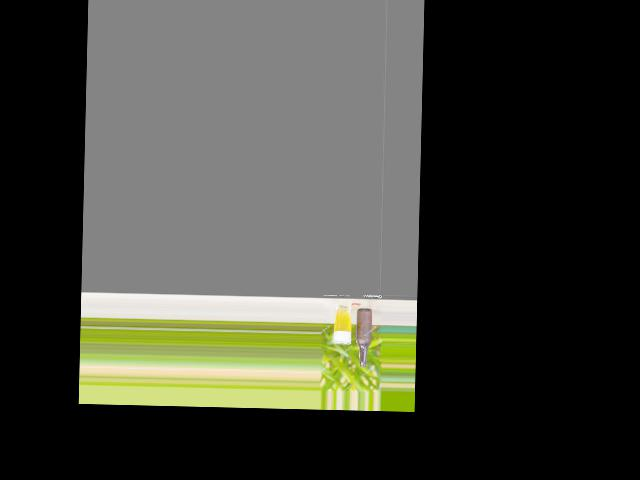beer: (355, 308, 371, 366)
